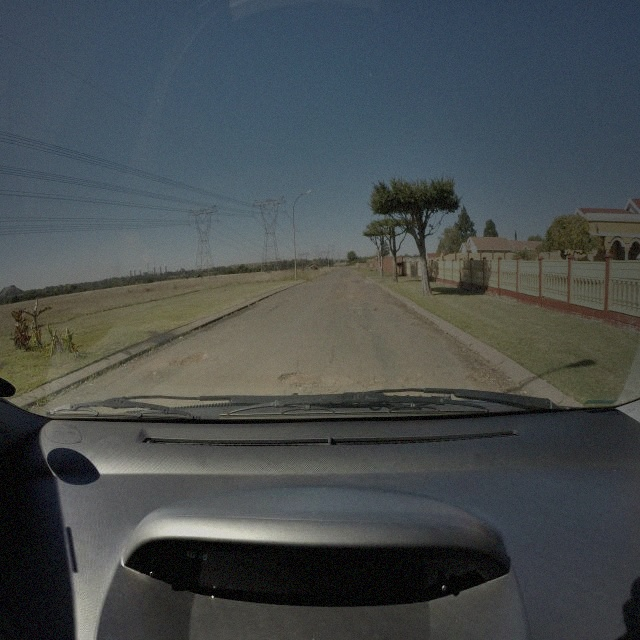pothole: (278, 369, 313, 389), (177, 347, 210, 367), (352, 308, 362, 316)
